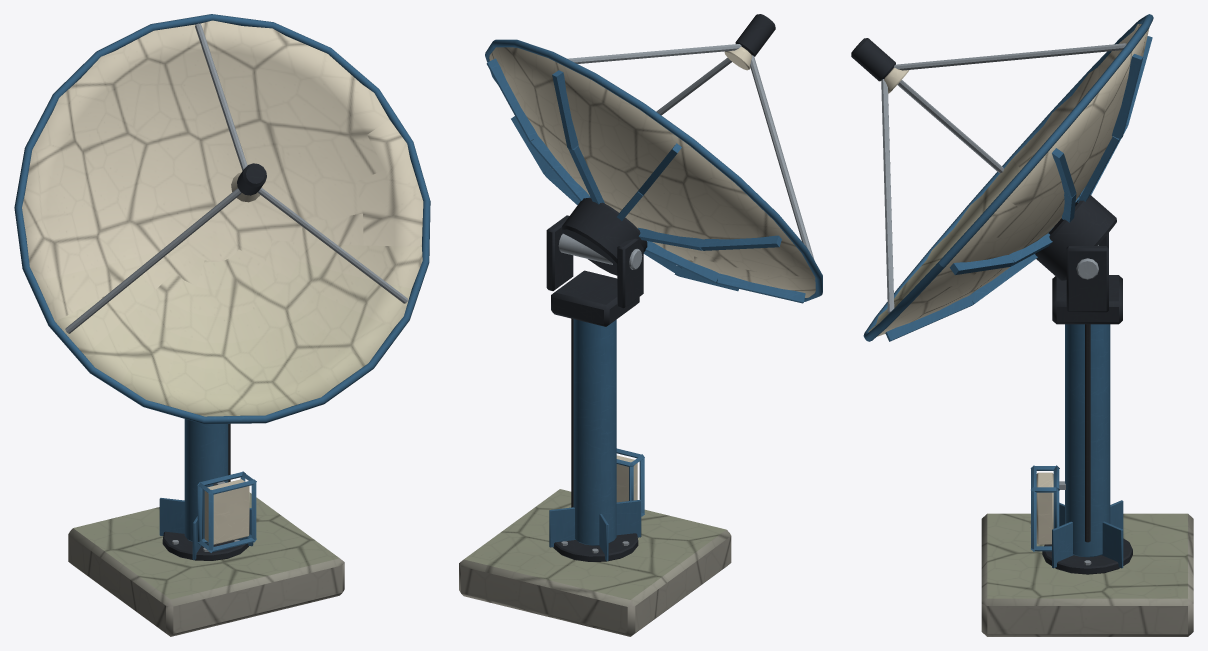
Rendered from satellite_dish.glb.
3 views of the same model, side by side, from view 1: azimuth 30°, elevation 25°; view 2: azimuth 150°, elevation 25°; view 3: azimuth 270°, elevation 25° (orthographic). The views are drawn at different scales.
Parts seen in each view (by area): view 1: satellite_dish; view 2: satellite_dish; view 3: satellite_dish.
Boxes of the visible parts, box(x1,y1,x2,y2) form: satellite_dish: box(14, 14, 430, 636); satellite_dish: box(459, 14, 822, 636); satellite_dish: box(851, 14, 1193, 636).
Bounding box in the file's own units: 2.98 × 4.38 × 2.42.
8 materials, 8 textured.
